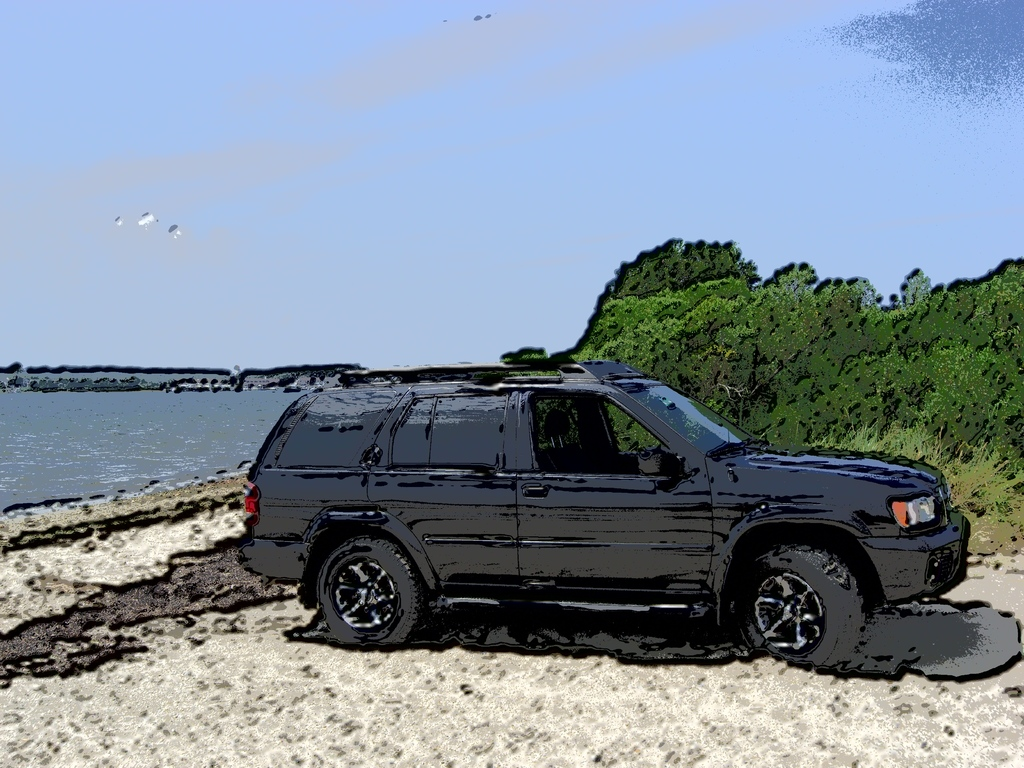cars: (233, 357, 971, 664)
